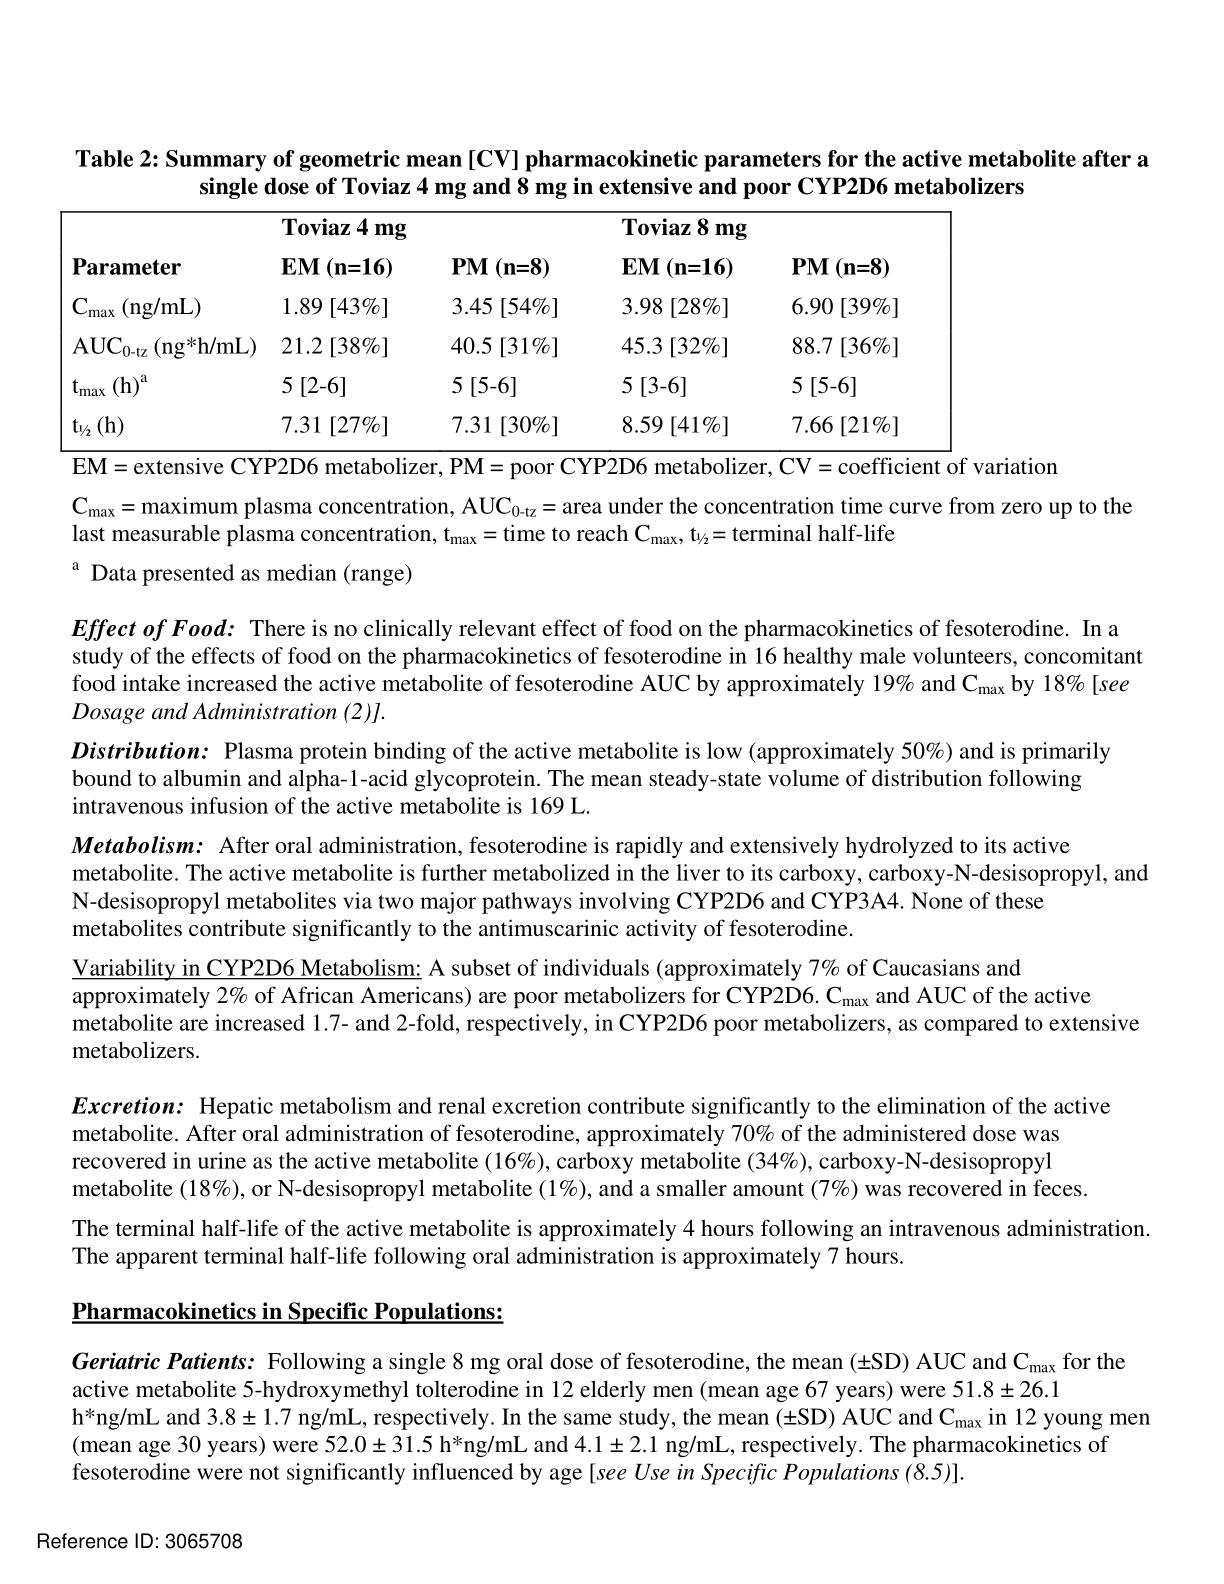partial_lined: (59, 210, 951, 453)
